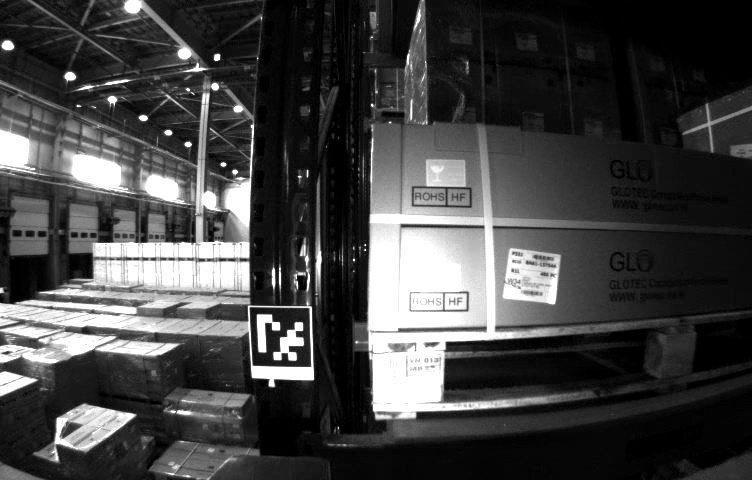True Barcode: (503, 246, 557, 306)
